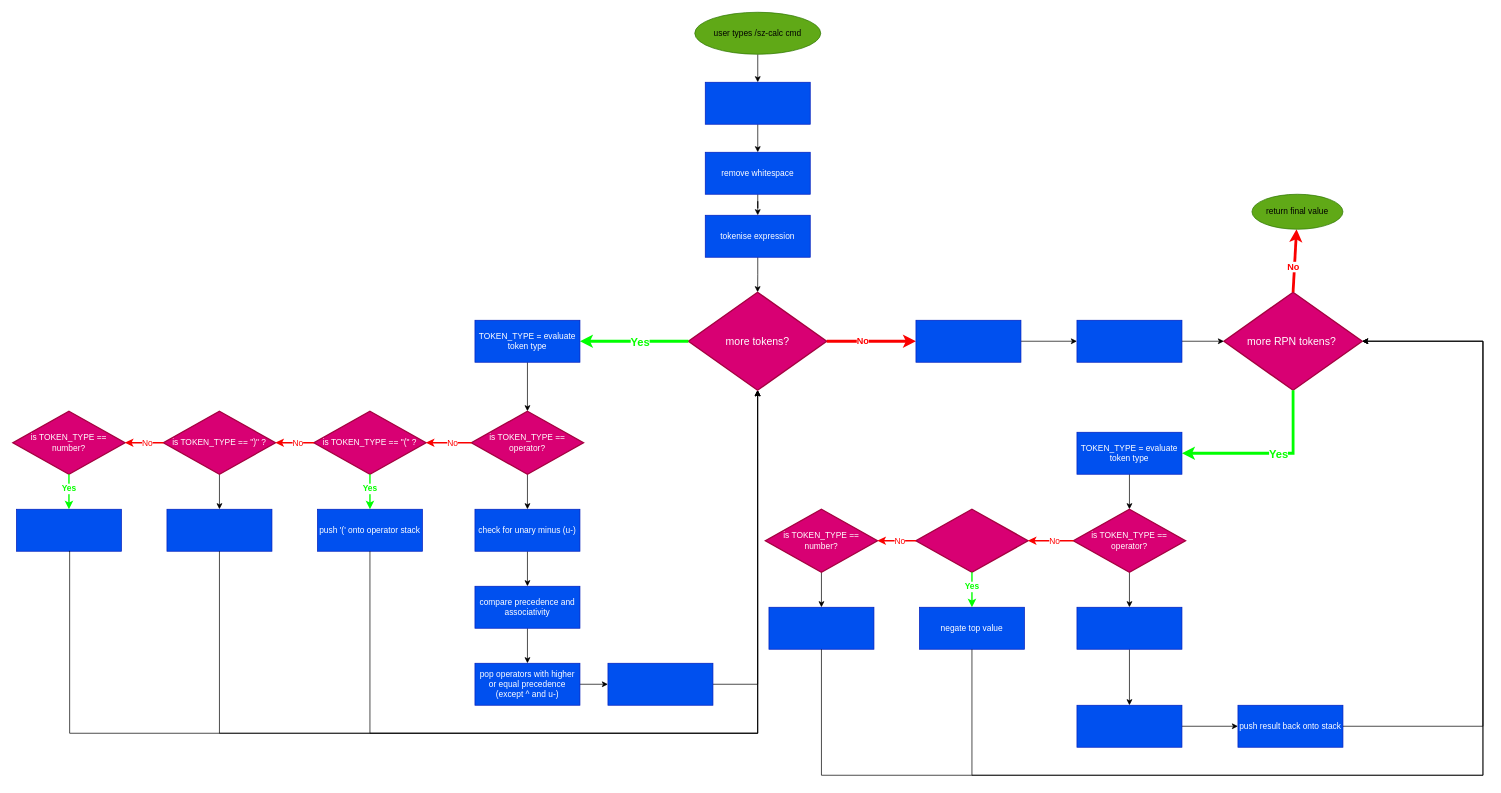
Image size: 1501x793. Some labels were removed from this diagram. Each missing label, with the centre of its shape:
"Add number to the output queue" goes at (x=68, y=530).
"is TOKEN_TYPE == unary?" goes at (x=971, y=540).
"perform calculations (+ - * / ^)" goes at (x=1129, y=726).
"pop operand(s)" goes at (x=1129, y=628).
"pop operators until '('" goes at (x=219, y=530).
"pop remaining operators to output queue" goes at (x=968, y=341).
"Postfix (RPN) expression created" goes at (x=1129, y=341).
"push current operators onto stack" goes at (x=660, y=684).
"push numbers onto evaluation stack" goes at (x=821, y=628).
"recieve experession" goes at (x=757, y=103).
